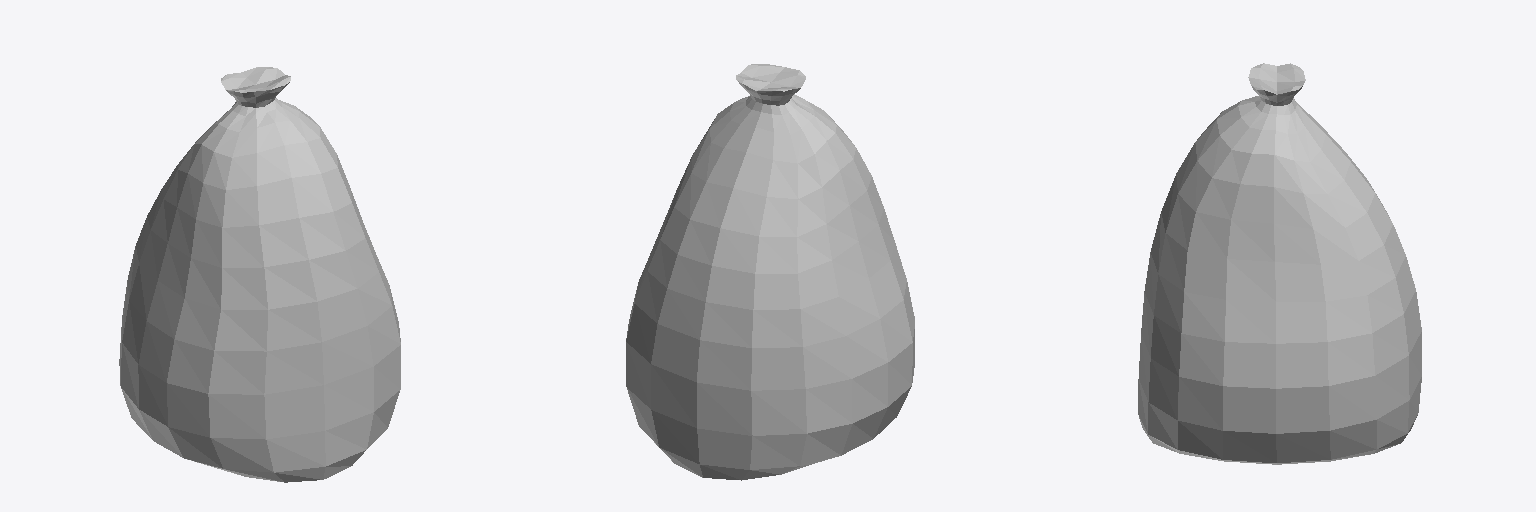
Rendered from trashbag_Low.obj.
The picture shows the model from 3 angles: view 1: azimuth 30°, elevation 25°; view 2: azimuth 150°, elevation 25°; view 3: azimuth 270°, elevation 25°; orthographic projection.
Parts seen in each view (by area): view 1: Low; view 2: Low; view 3: Low.
Boxes of the visible parts, x1,y1,x2,y2 form: Low: [119, 67, 400, 482]; Low: [626, 64, 914, 480]; Low: [1138, 63, 1421, 464].
Bounding box in the file's own units: 2.17 × 3.12 × 2.24.